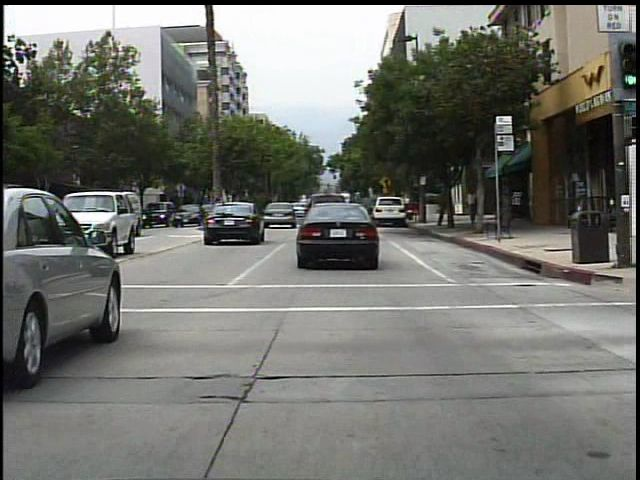person: (462, 187, 483, 231)
